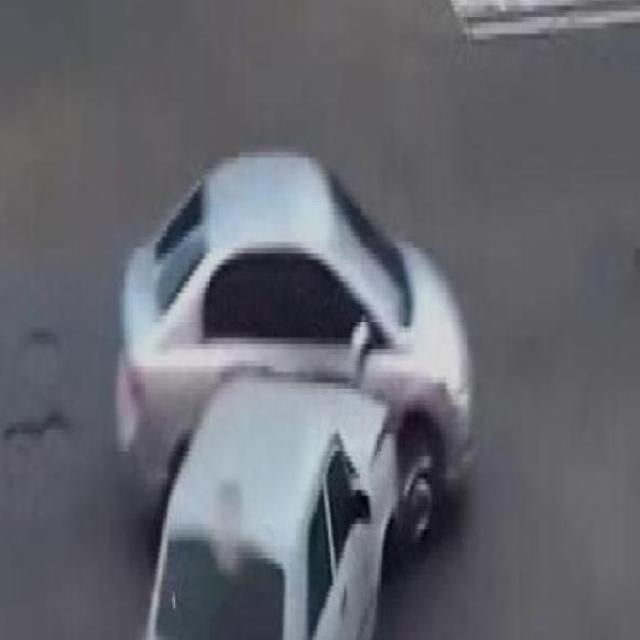accident: (115, 146, 482, 640)
